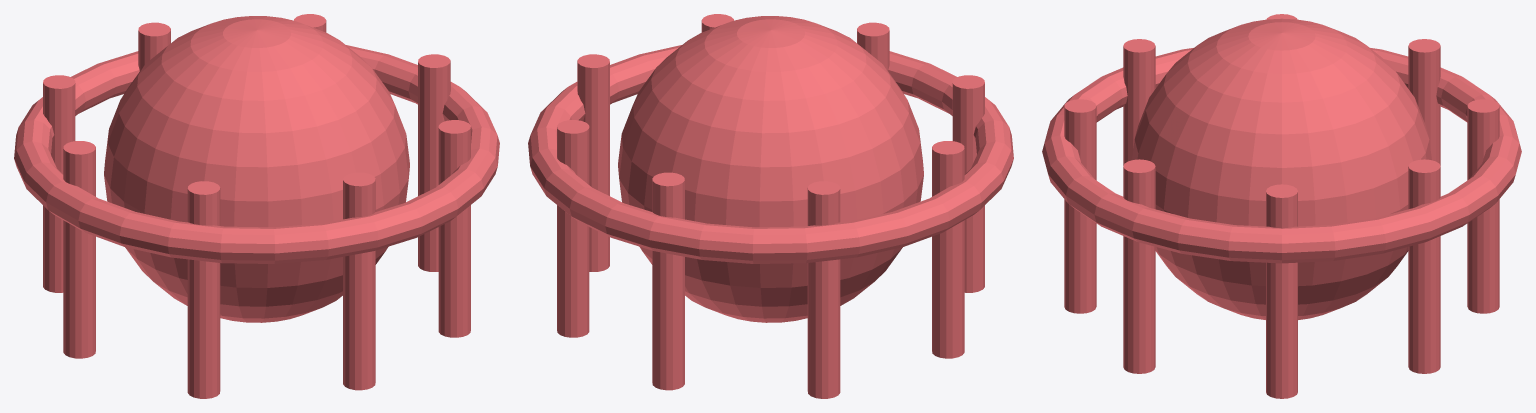
3 renders of one model, left to right at view 1: azimuth 30°, elevation 25°; view 2: azimuth 150°, elevation 25°; view 3: azimuth 270°, elevation 25°, orthographic.
Visible parts, largest first — view 1: cis_ray_shield_sketchfab_001; view 2: cis_ray_shield_sketchfab_001; view 3: cis_ray_shield_sketchfab_001.
Part boxes in pixels (x1=…): cis_ray_shield_sketchfab_001: x1=14, y1=14, x2=499, y2=398; cis_ray_shield_sketchfab_001: x1=528, y1=14, x2=1013, y2=398; cis_ray_shield_sketchfab_001: x1=1042, y1=14, x2=1521, y2=398.
Bounding box in the file's own units: 2.38 × 1.5 × 2.38.
